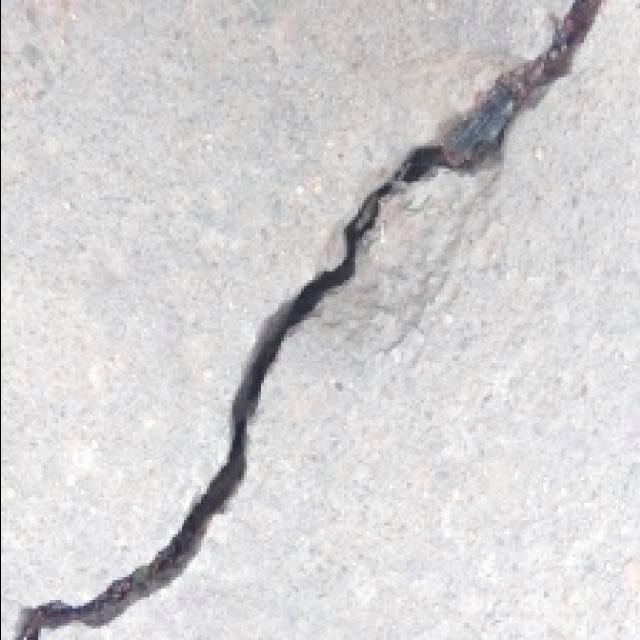SurfaceCrack: (22, 8, 624, 640)
